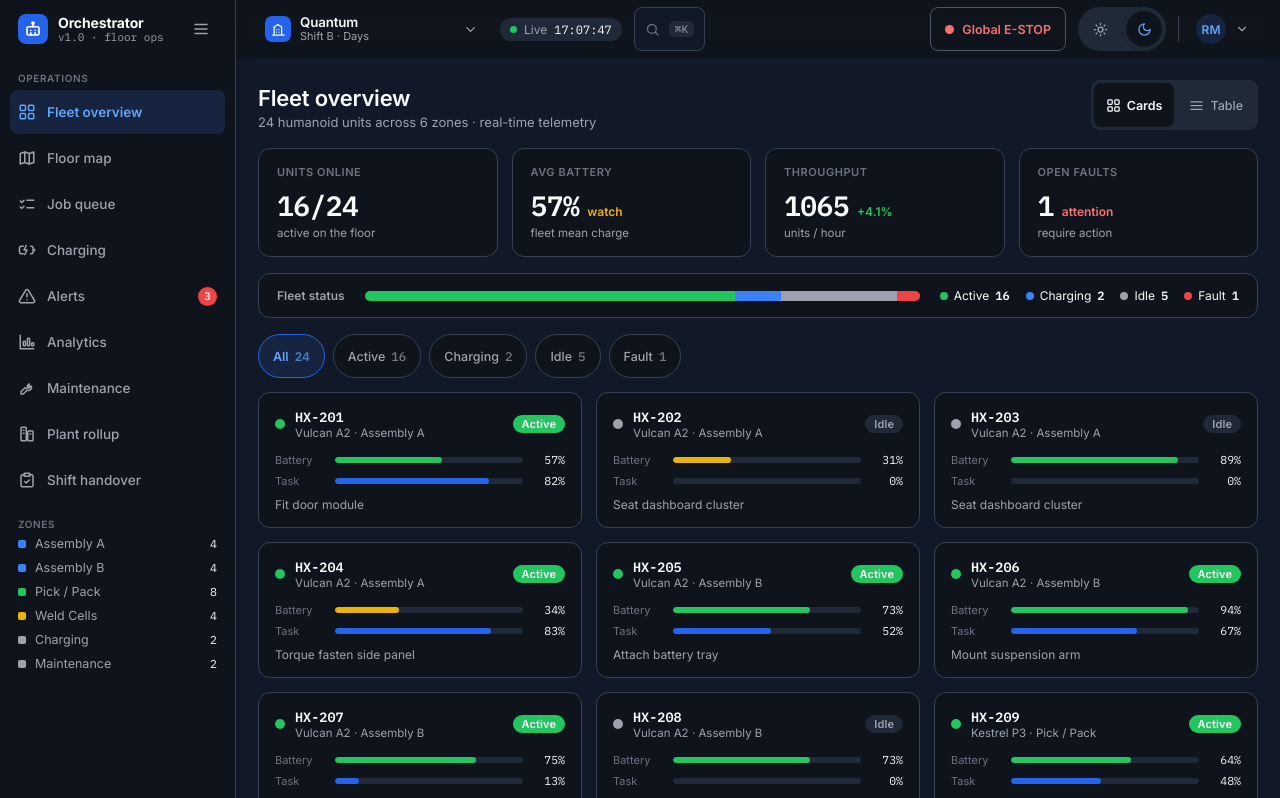
Test case: navigation › sidebar "Analytics" shows the Analytics screen
What coordinates should you click on to do the following:
click the button "Analytics"
I would click on:
 (118, 342)
Its box is [10,320,225,364].
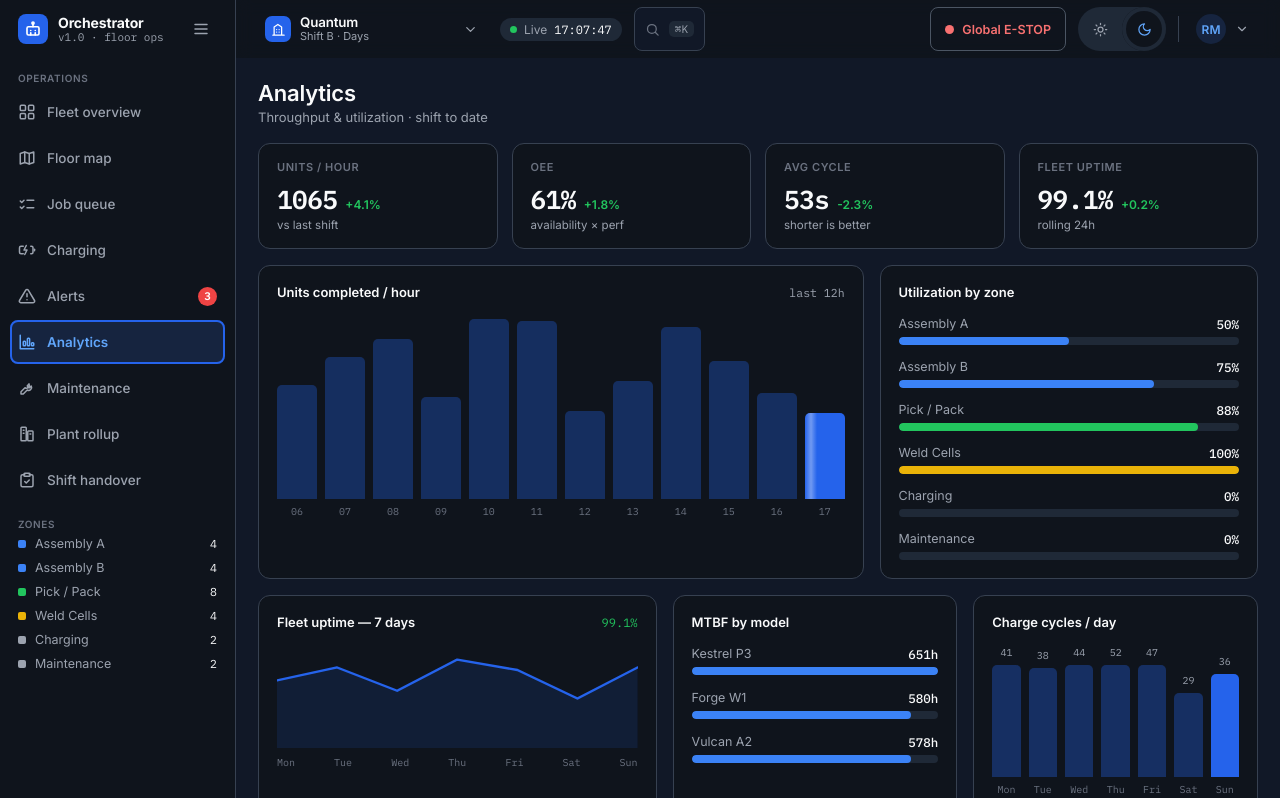
Expected: the heading "Analytics" is shown, [258,80,356,106]
